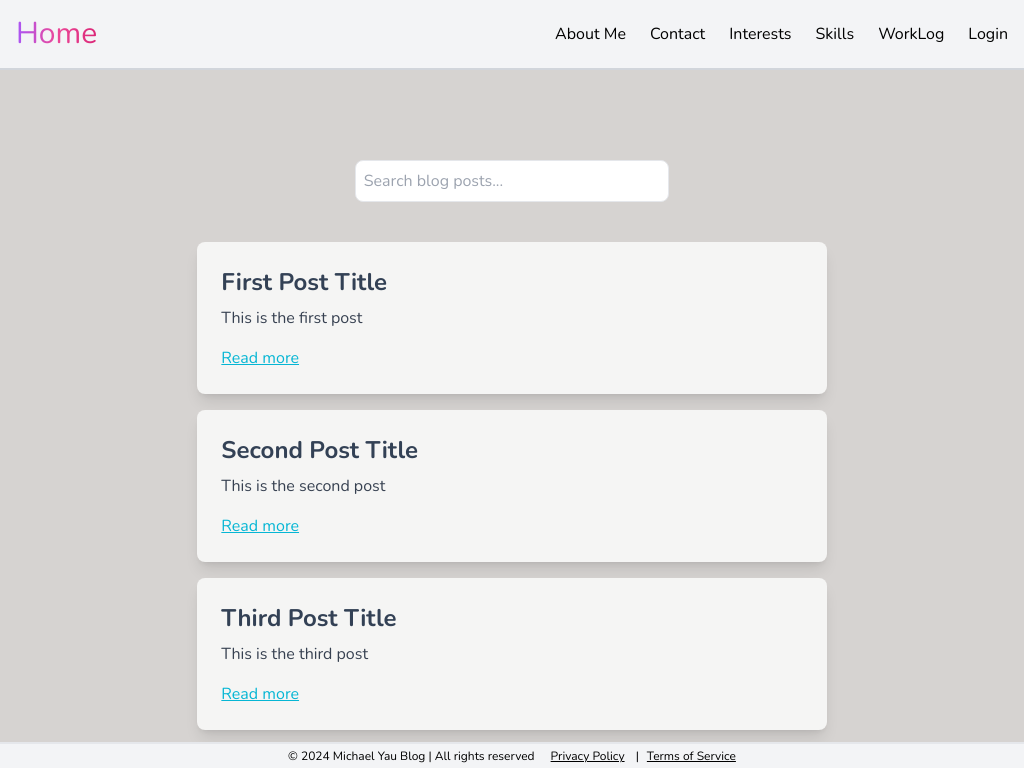
Scenario: LandingPage › displays no posts message when no posts match the search query
Type "Nonexistent Post" into the field with placeholder "Search blog posts..." at (512, 181), box left=355, top=160, right=669, bottom=202
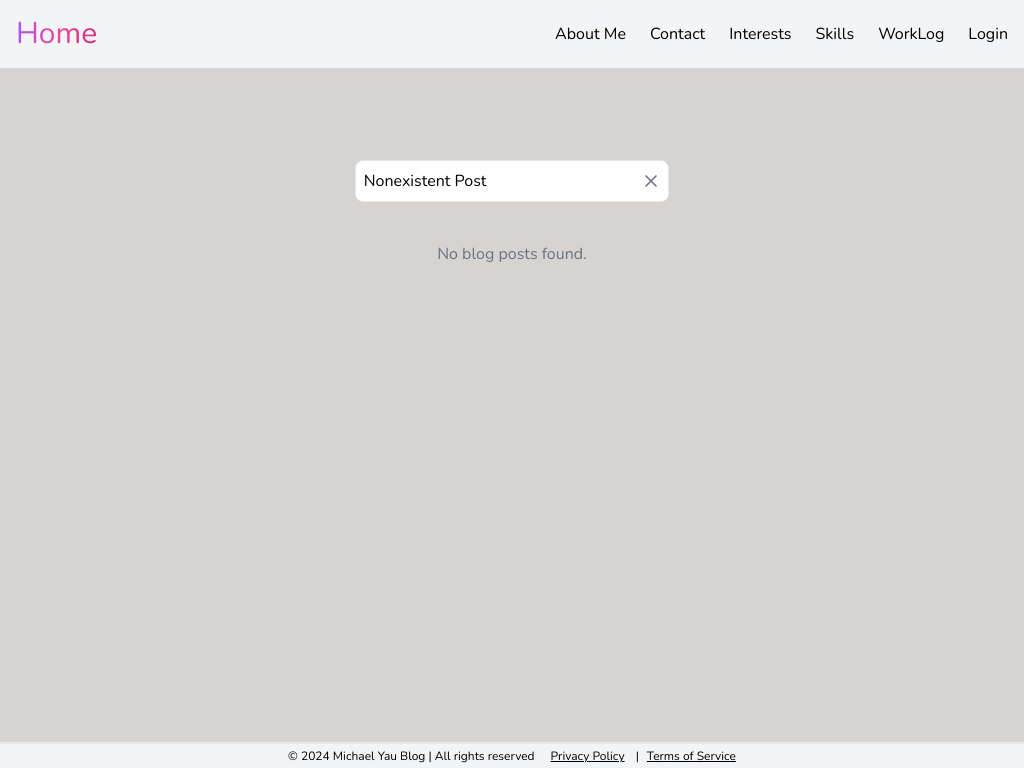
expect the text "No blog posts found." is shown: met, box left=437, top=243, right=587, bottom=265
